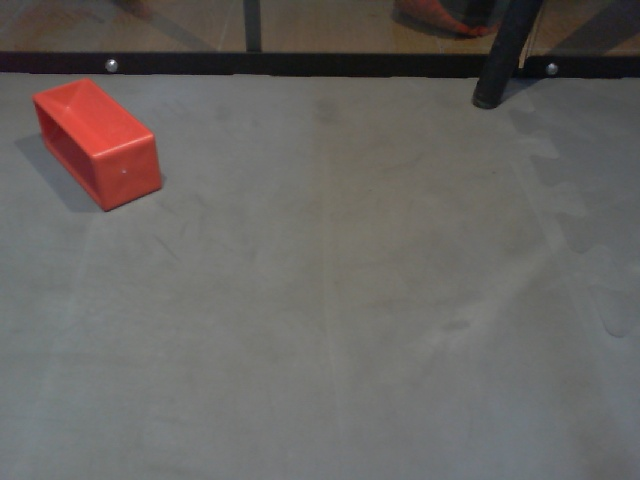RedSample: (30, 76, 164, 215)
